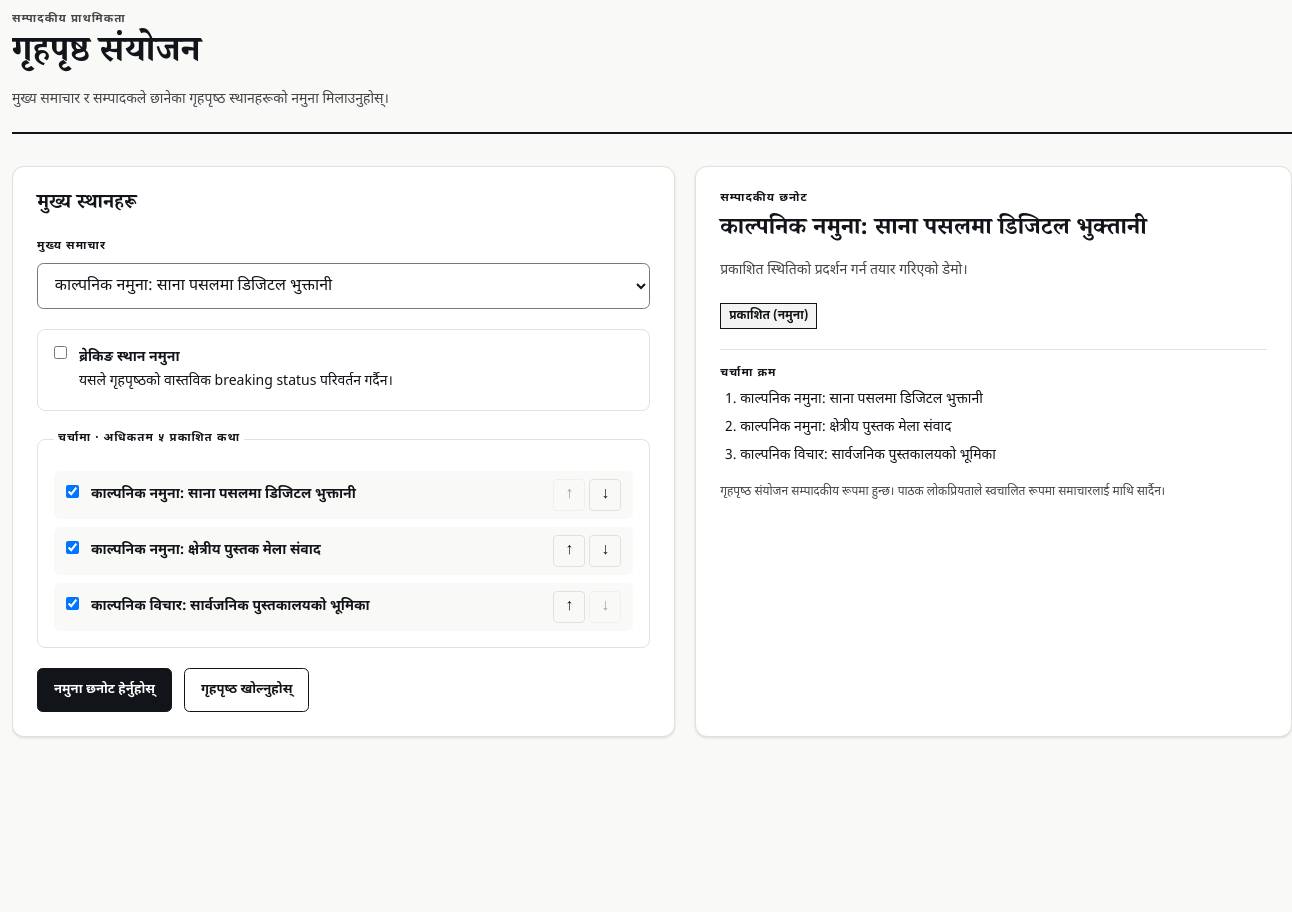
newsroom admin modules › previews homepage placement changes without publishing them
Select "काल्पनिक नमुना: क्षेत्रीय पुस्तक मेला संवाद" in the dropdown labelled "मुख्य समाचार" at (344, 286), box [37, 263, 650, 309]
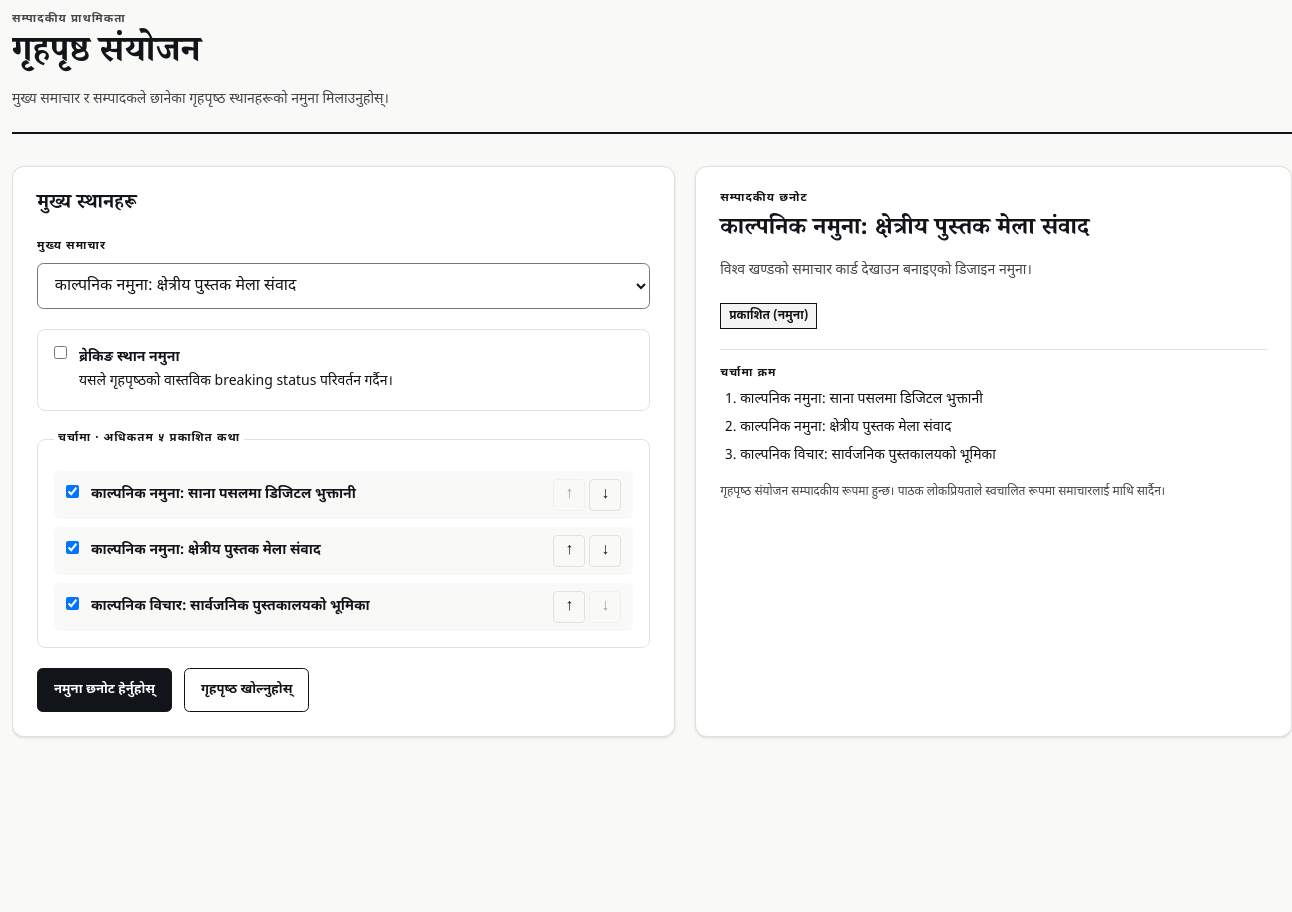
Expected: the heading "काल्पनिक नमुना: क्षेत्रीय पुस्तक मेला संवाद" is shown, [720, 212, 1089, 249]
Click the button "नमुना छनोट हेर्नुहोस्" at (104, 690), box [37, 668, 172, 712]
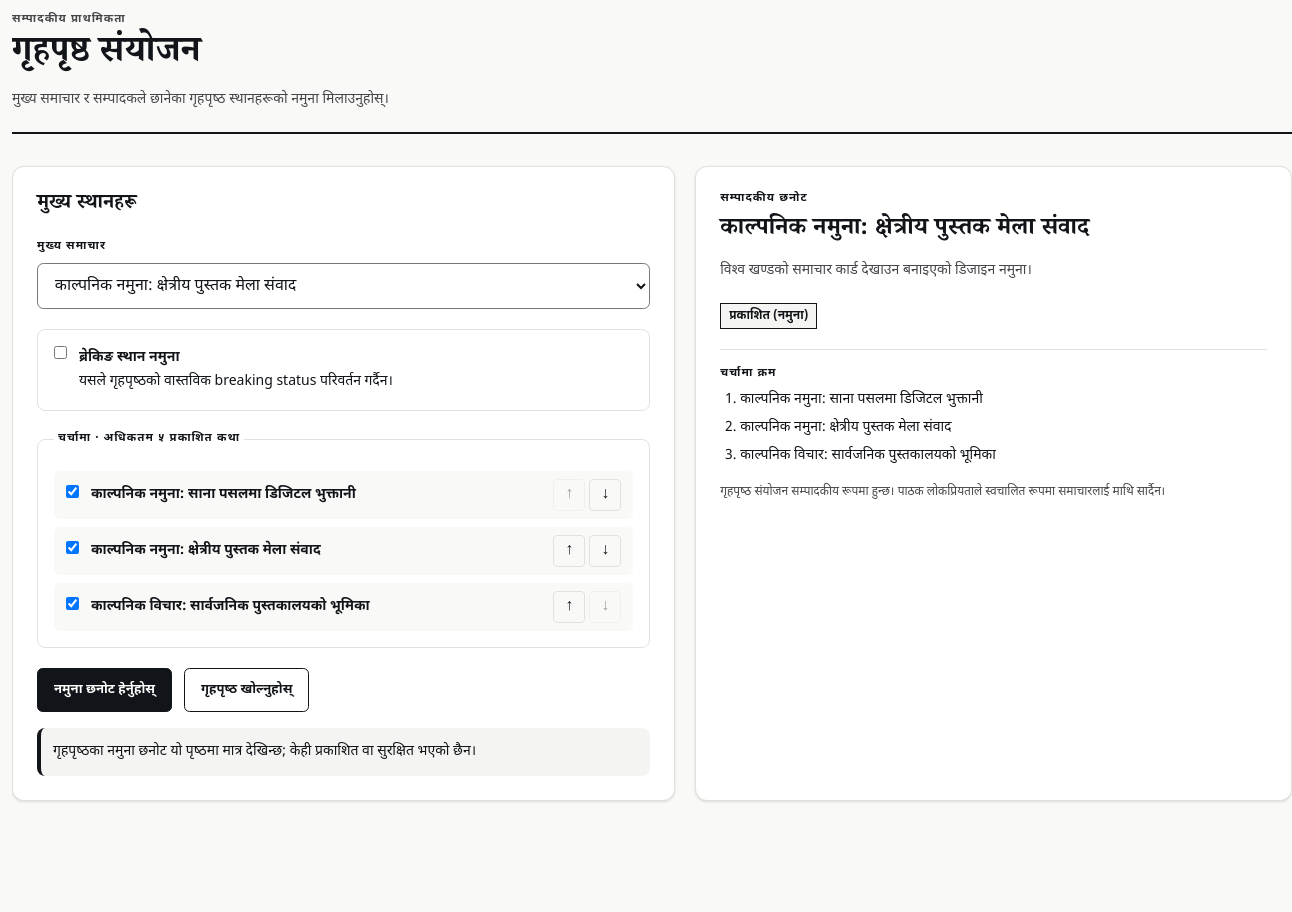
Expected: the message shows "केही प्रकाशित वा सुरक्षित भएको छैन", [53, 742, 476, 761]
